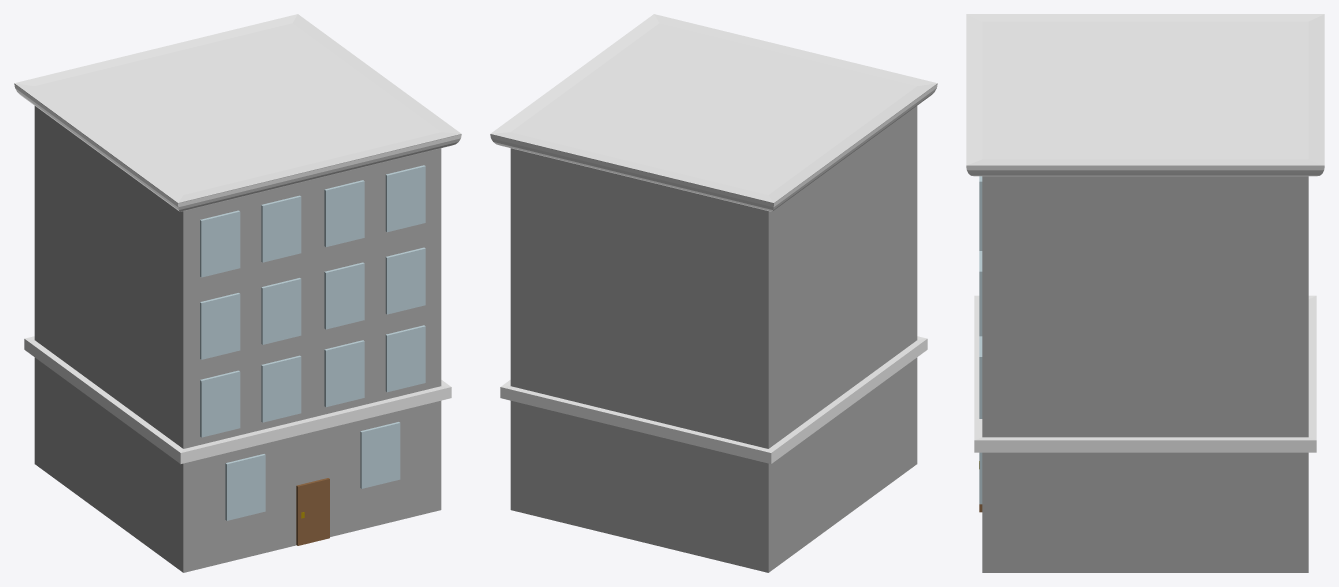
File: building1.fbx
3 renders of one model, left to right at view 1: azimuth 30°, elevation 25°; view 2: azimuth 150°, elevation 25°; view 3: azimuth 270°, elevation 25°, orthographic. The views are drawn at different scales.
Visible parts, largest first — view 1: Cube; view 2: Cube; view 3: Cube.
Part boxes in pixels (<box>): Cube: <box>14,14,461,572</box>; Cube: <box>490,14,937,572</box>; Cube: <box>966,14,1324,572</box>.
Bounding box in the file's own units: 1100 × 1402 × 1100.
